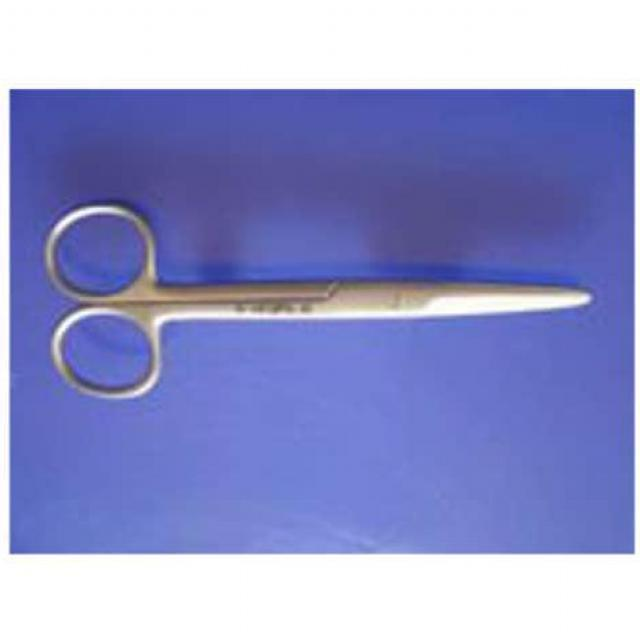Mayo_metz: (38, 193, 596, 409)
